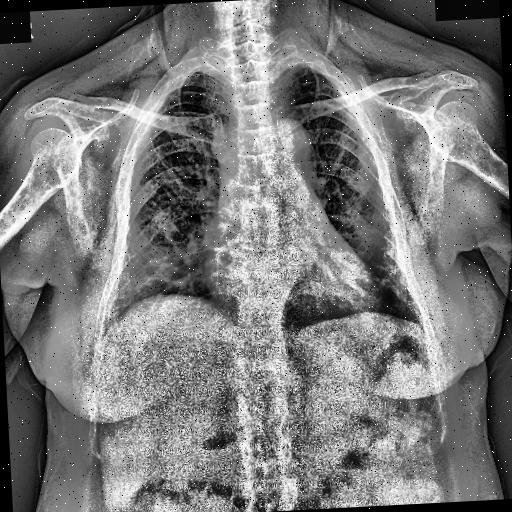0- Aortic enlargement: (256, 117, 318, 182), (261, 118, 310, 176), (267, 120, 312, 174)
13- Pulmonary fibrosis: (140, 272, 192, 299), (130, 264, 184, 290)
3- Cardiomegaly: (204, 235, 384, 322), (204, 249, 384, 329), (204, 250, 382, 328)
